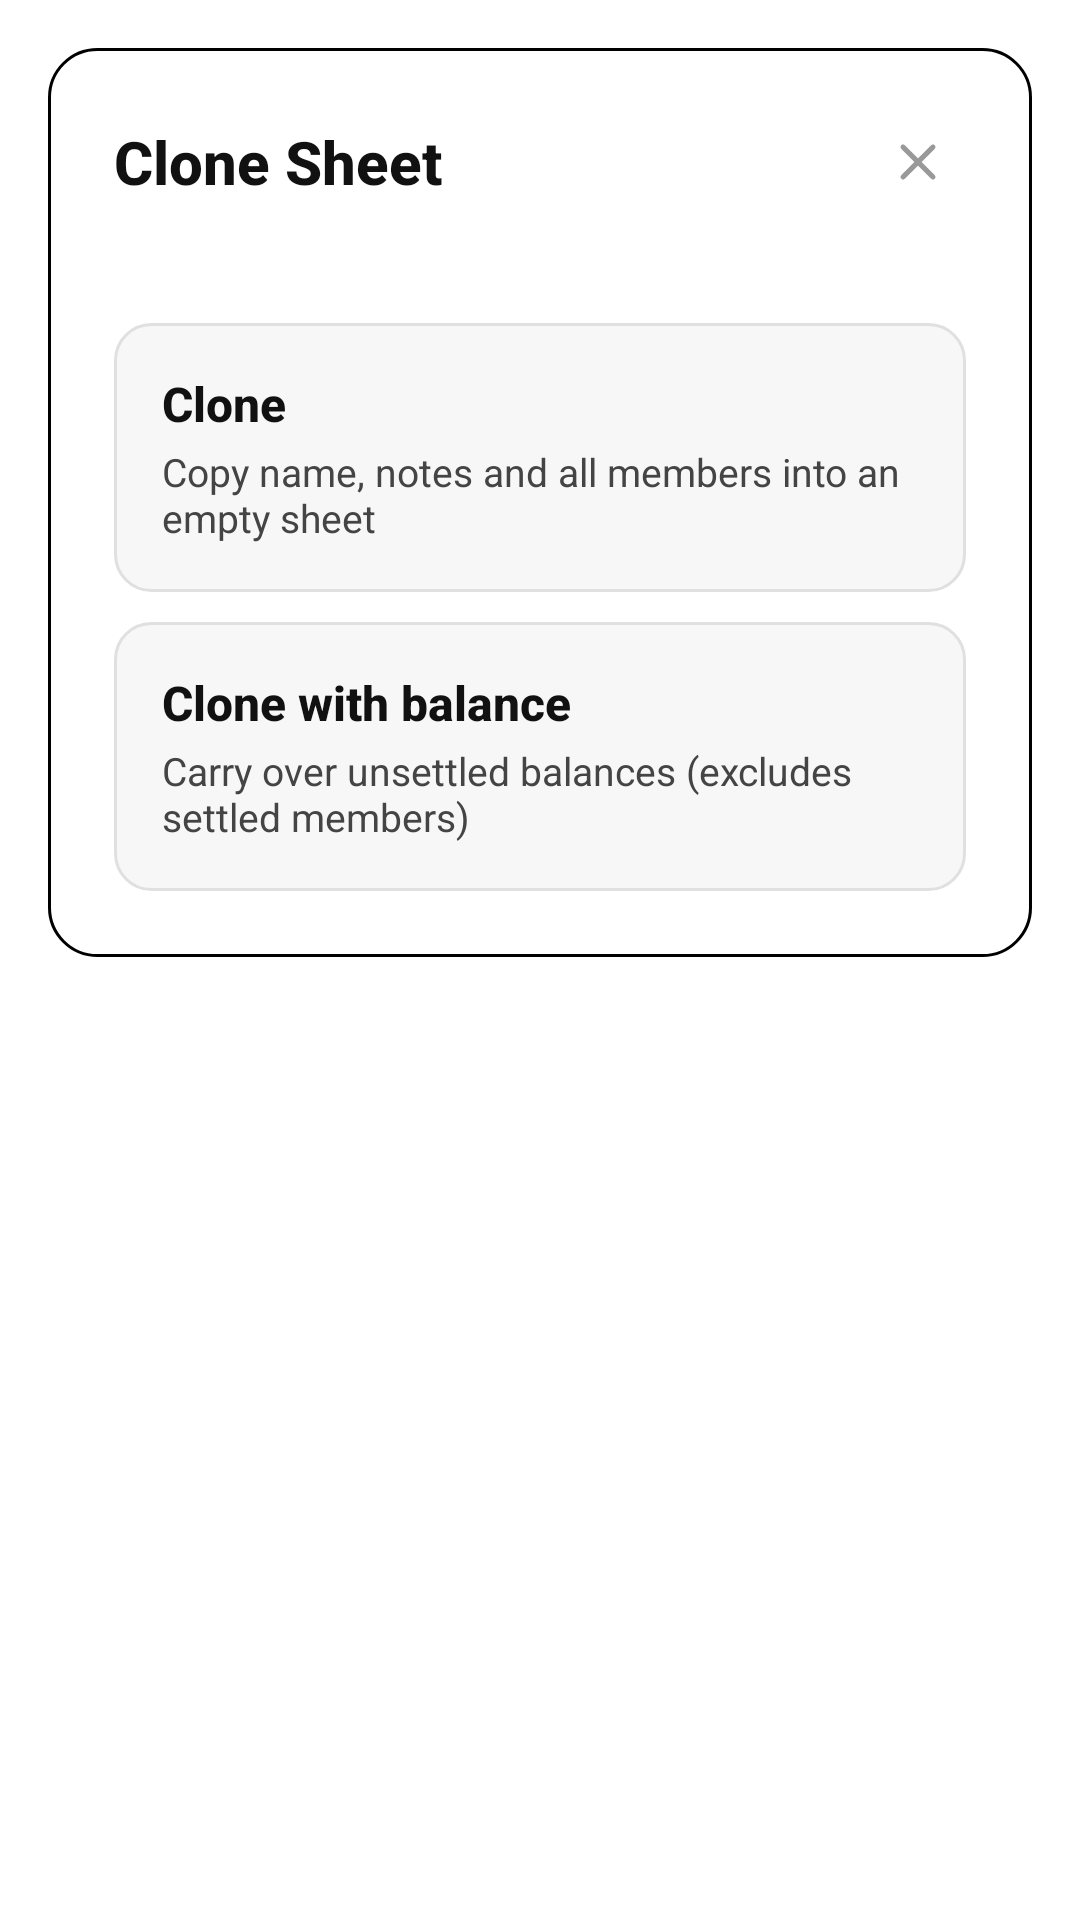

Icon click points for this 1080px x 1920px phone screenshot, format (x=x, y=y):
Close: (x=918, y=162)
